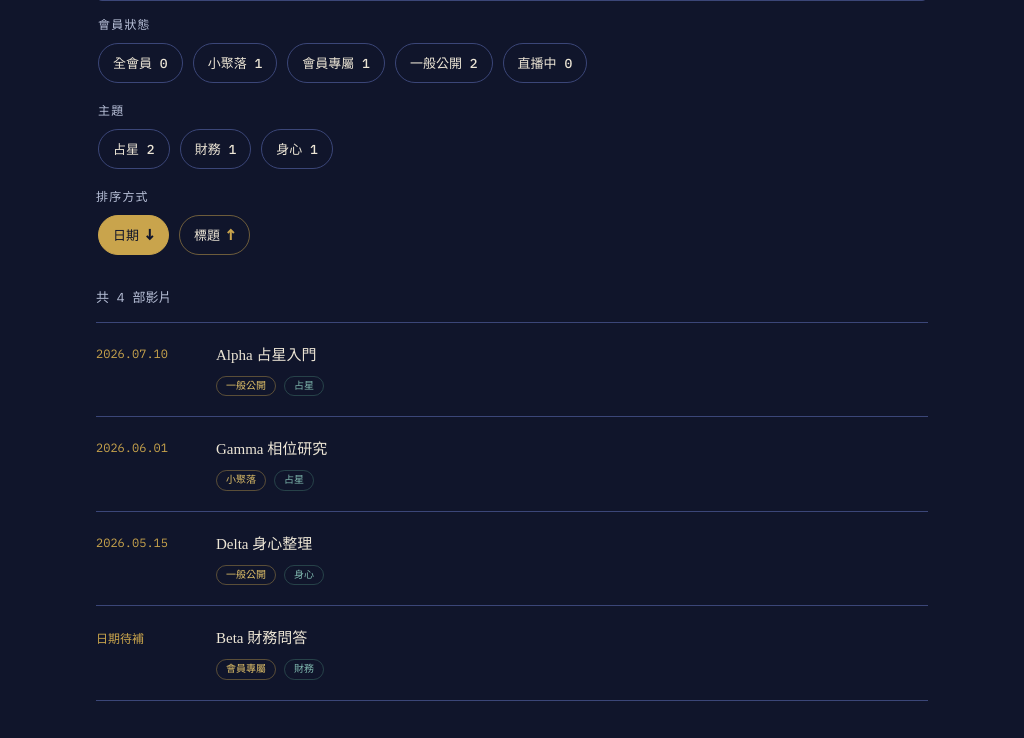
App › recently watched items can be marked complete and removed
The width and height of the screenshot is (1024, 738).
(page scrolled)
What coordinates should you click on to do the following:
click the link "Alpha 占星入門"
I would click on:
 (266, 355)
Its box is [216,347,316,363].
(page scrolled)
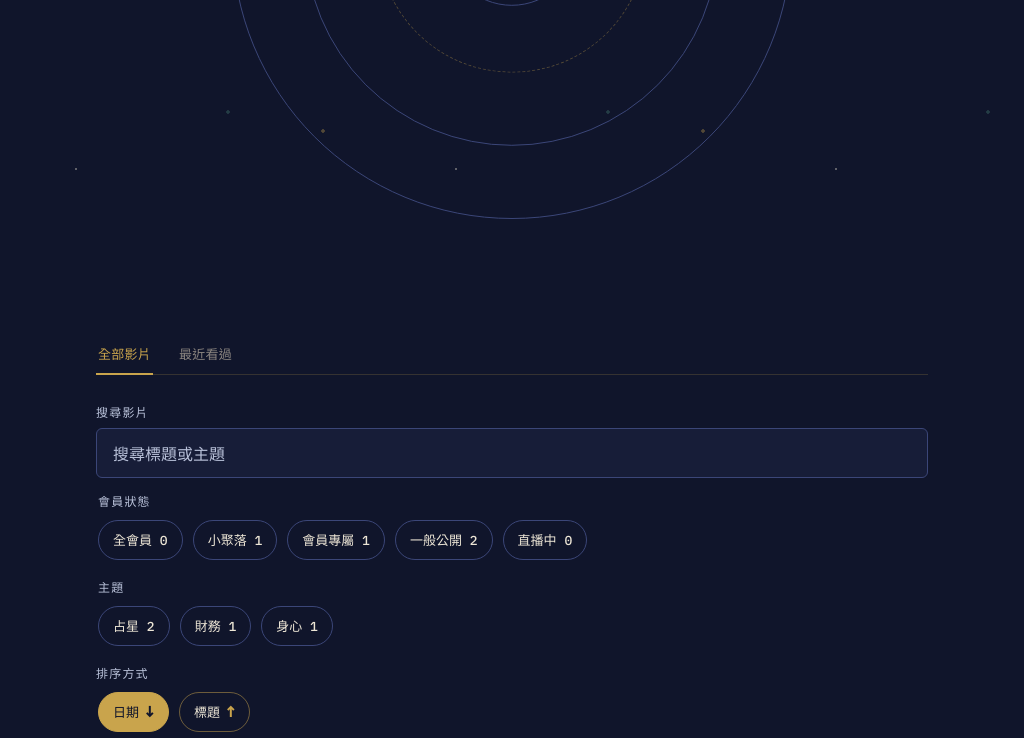
What coordinates should you click on to do the following:
click the tab "最近看過"
I would click on:
 (206, 355)
Its box is [177,335,234,375].
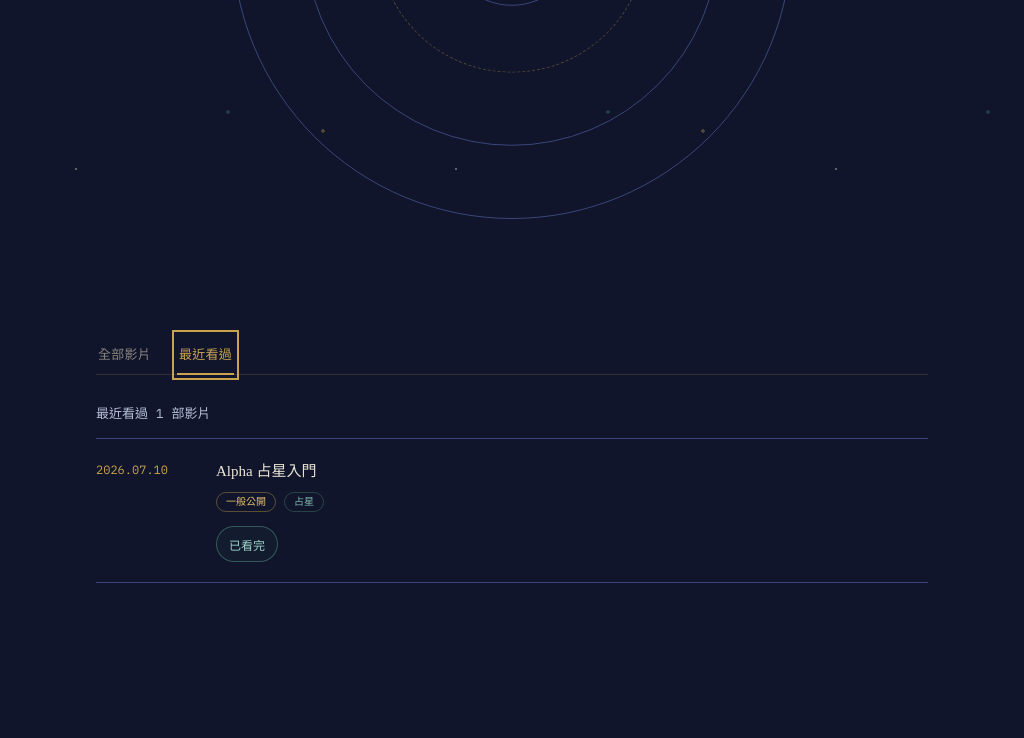
What coordinates should you click on to do the following:
click the button with aria-label "標示「Alpha 占星入門」為已看完並移除"
I would click on:
 (247, 544)
Its box is [216,526,278,562].
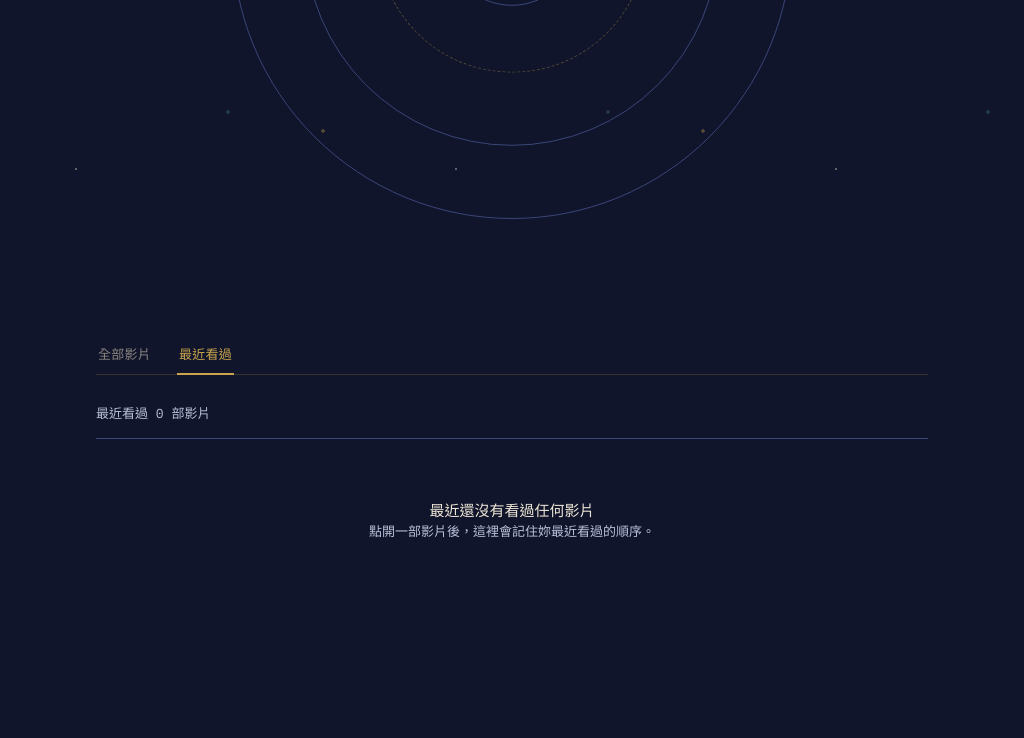
Now the text "最近還沒有看過任何影片" is shown, box [430,501,594,520]
Now the link "Alpha 占星入門" is gone
